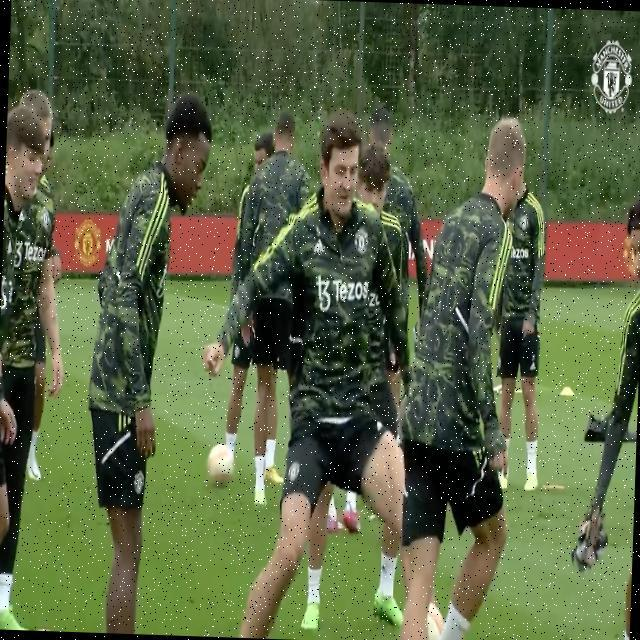Adidas: (313, 238, 325, 255)
